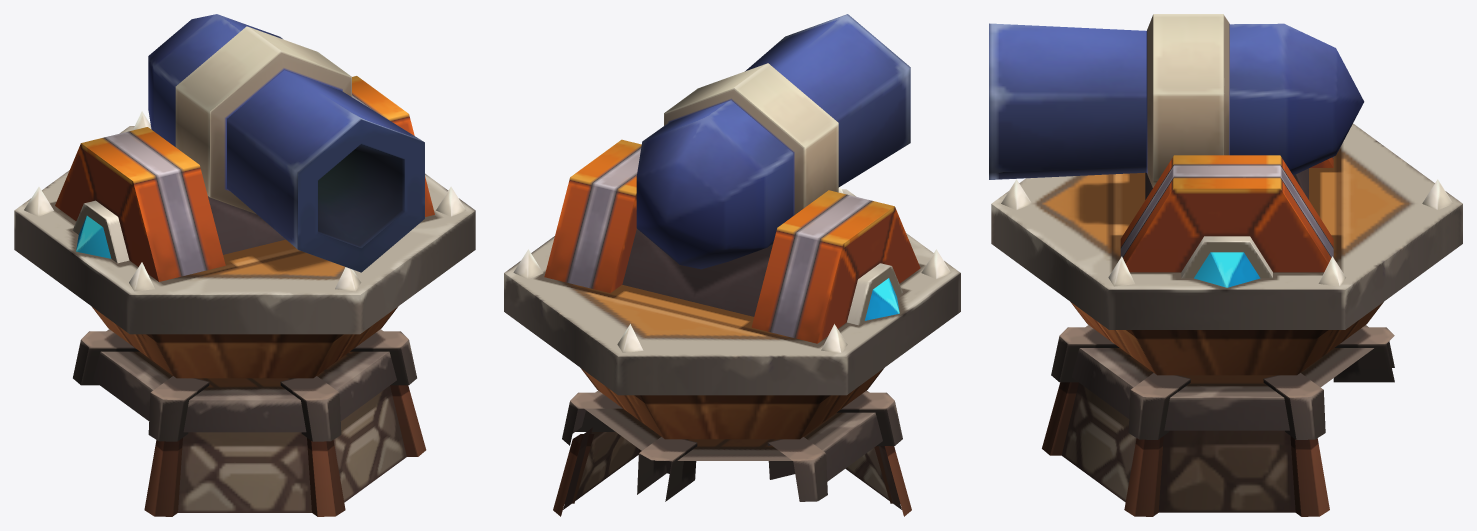
Rendered from B_Cannontower01.fbx.
3 views of the same model, side by side, from view 1: azimuth 30°, elevation 25°; view 2: azimuth 150°, elevation 25°; view 3: azimuth 270°, elevation 25° (orthographic). The views are drawn at different scales.
Visible parts, largest first — view 1: B_Cannontower01_02, B_Cannontower01_01; view 2: B_Cannontower01_02, B_Cannontower01_01; view 3: B_Cannontower01_02, B_Cannontower01_01.
Part boxes in pixels (bbox=[...]): B_Cannontower01_02: bbox=[14, 14, 475, 378]; B_Cannontower01_01: bbox=[73, 329, 426, 516]; B_Cannontower01_02: bbox=[504, 14, 960, 439]; B_Cannontower01_01: bbox=[553, 390, 911, 516]; B_Cannontower01_02: bbox=[989, 14, 1462, 375]; B_Cannontower01_01: bbox=[1042, 325, 1394, 516].
Size of the model in its own units: 3.29 by 3.86 by 3.81.
1 material, 1 textured.
